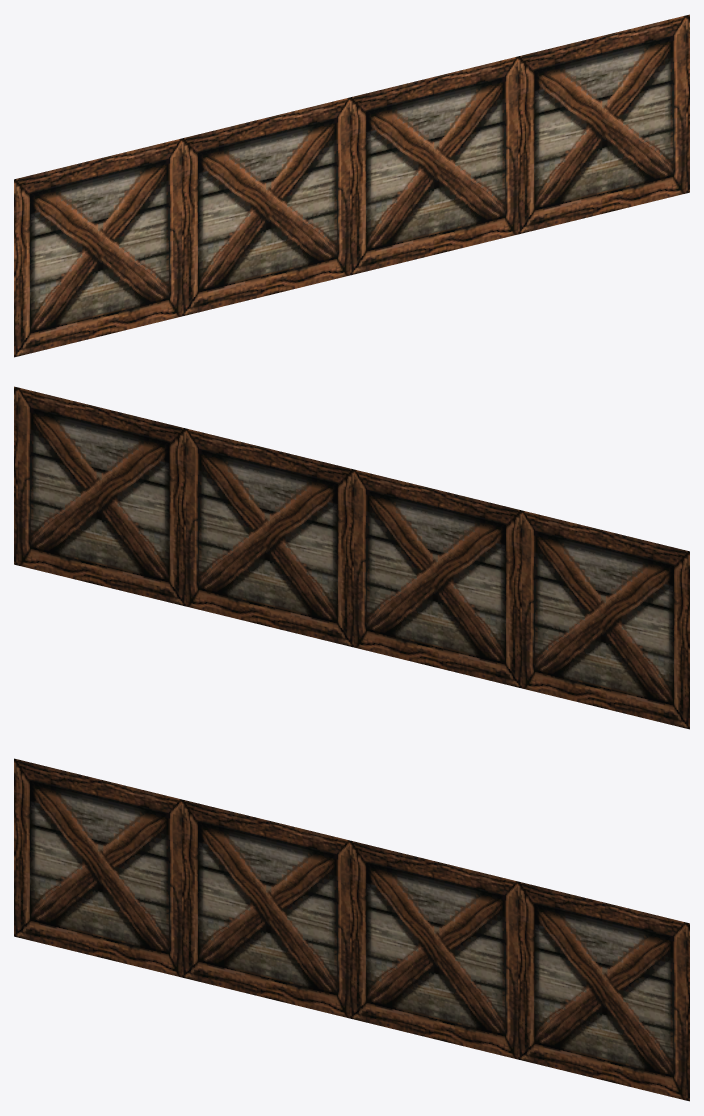
The model's file is LAKETOWN_EXTERIOR_PS_LT_PANEL1879.fbx.
3 views of the same model, one above another, from view 1: azimuth 30°, elevation 25°; view 2: azimuth 150°, elevation 25°; view 3: azimuth 330°, elevation 25° (orthographic).
Visible parts, largest first — view 1: LAKETOWN_EXTERIOR_PS_LT_PANEL1879; view 2: LAKETOWN_EXTERIOR_PS_LT_PANEL1879; view 3: LAKETOWN_EXTERIOR_PS_LT_PANEL1879.
Boxes of the visible parts, left/top/right/bottom form: LAKETOWN_EXTERIOR_PS_LT_PANEL1879: left=14, top=14, right=689, bottom=357; LAKETOWN_EXTERIOR_PS_LT_PANEL1879: left=14, top=386, right=689, bottom=729; LAKETOWN_EXTERIOR_PS_LT_PANEL1879: left=14, top=758, right=689, bottom=1101.
Size of the model in its own units: 40669 by 10238 by 0.00167.
Materials: 1 (1 with a texture image).
